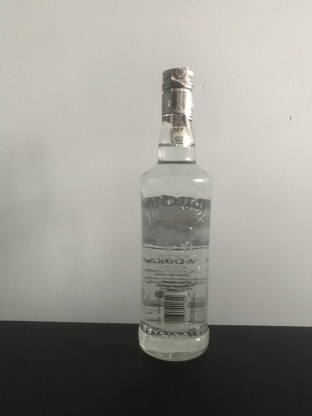nakretka: (160, 65, 195, 123)
